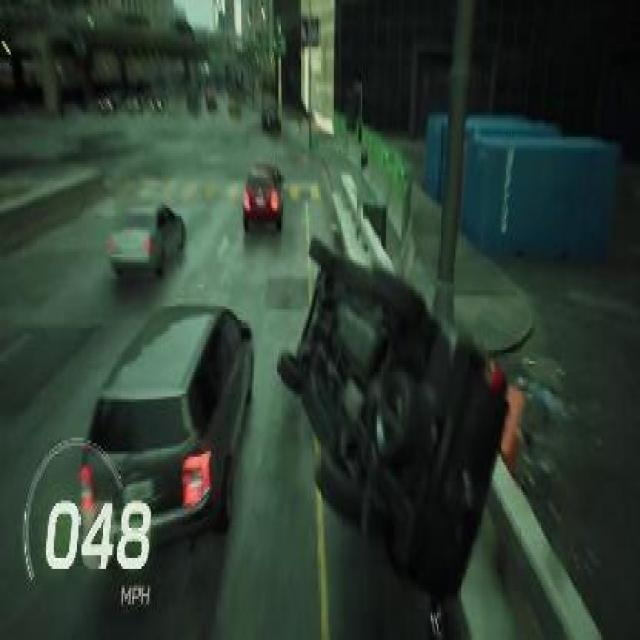accident: (270, 224, 518, 616)
